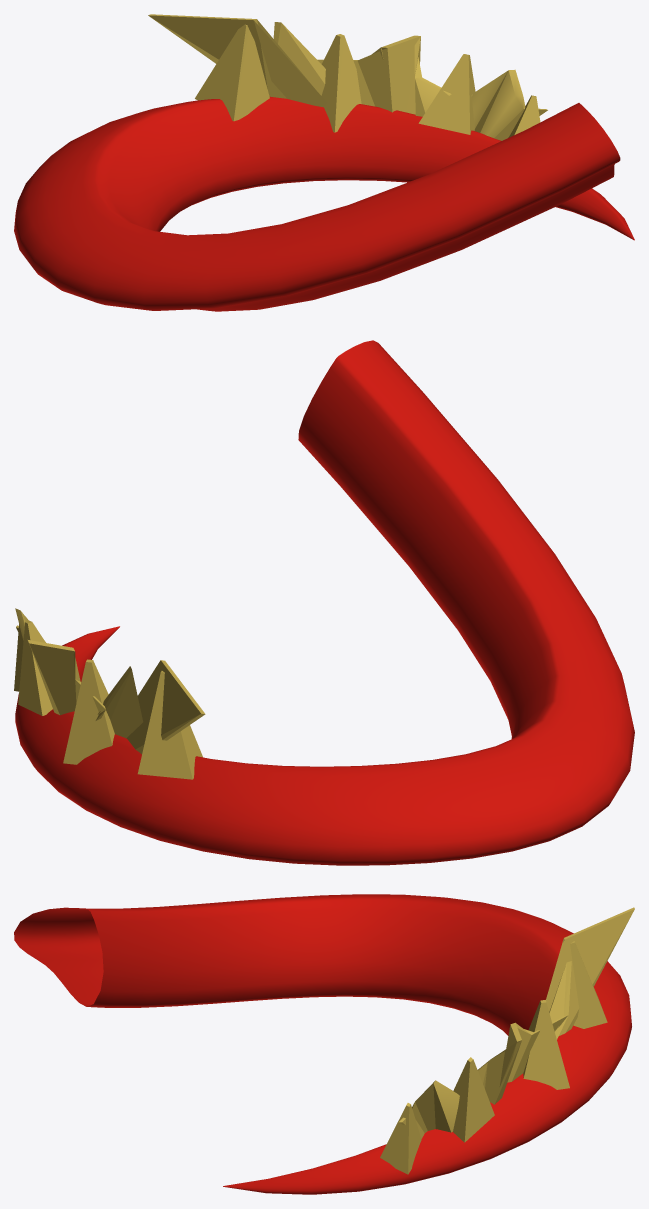
3 renders of one model, top to bottom at view 1: azimuth 30°, elevation 25°; view 2: azimuth 150°, elevation 25°; view 3: azimuth 270°, elevation 25°, orthographic. The views are drawn at different scales.
Parts seen in each view (by area): view 1: tail, tail_decor_001, tail_decor; view 2: tail, tail_decor, tail_decor_001; view 3: tail, tail_decor_001, tail_decor.
Part boxes in pixels (left/top/right/bottom): tail: left=14, top=96, right=634, bottom=311; tail_decor_001: left=148, top=14, right=547, bottom=140; tail_decor: left=195, top=24, right=540, bottom=137; tail: left=15, top=340, right=634, bottom=865; tail_decor: left=14, top=616, right=202, bottom=779; tail_decor_001: left=15, top=608, right=205, bottom=754; tail: left=14, top=894, right=631, bottom=1194; tail_decor_001: left=399, top=907, right=634, bottom=1138; tail_decor: left=380, top=941, right=607, bottom=1174.
Size of the model in its own units: 160 by 166 by 66.06.
